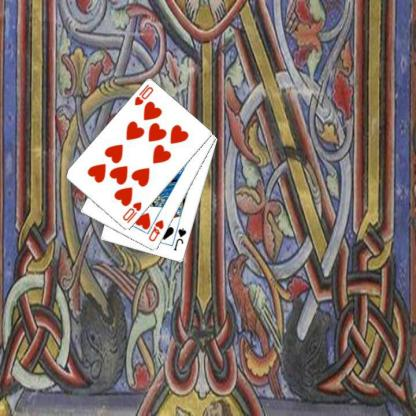10H: (120, 199, 143, 225), (132, 82, 155, 107)
JS: (171, 226, 188, 252)
QH: (146, 217, 165, 243)
